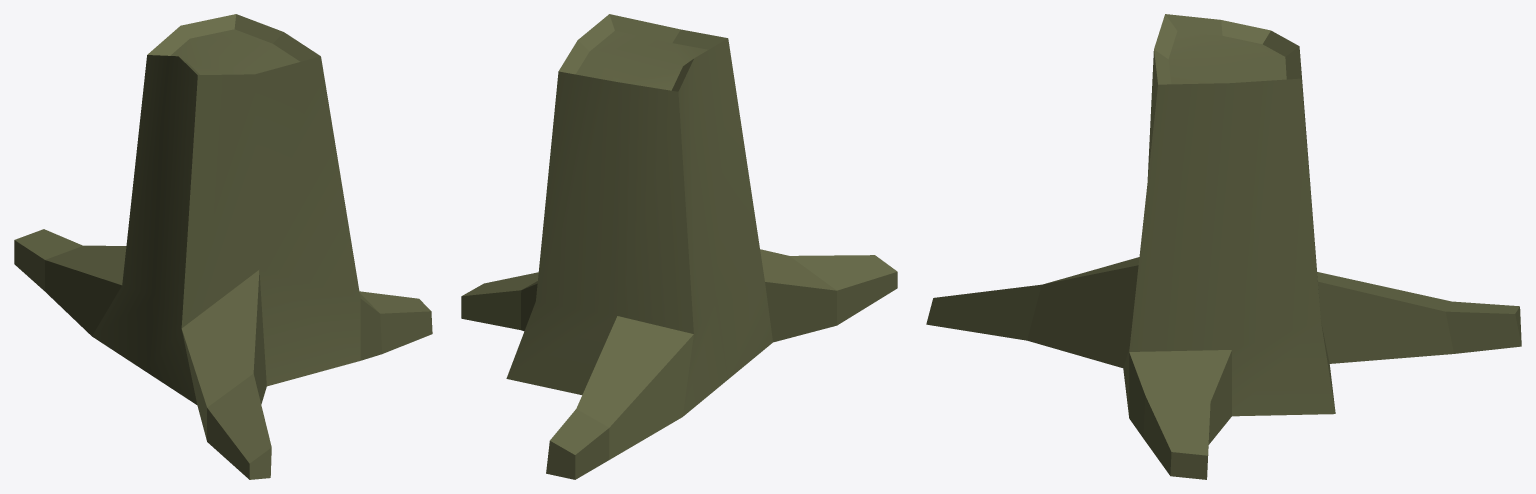
File: treestump.fbx
The picture shows the model from 3 angles, left to right: view 1: azimuth 30°, elevation 25°; view 2: azimuth 150°, elevation 25°; view 3: azimuth 270°, elevation 25°; orthographic projection. The views are drawn at different scales.
Visible parts, largest first — view 1: stump; view 2: stump; view 3: stump.
Boxes of the visible parts, box(x1,y1,x2,y2) form: stump: box(14, 14, 432, 479); stump: box(461, 14, 897, 479); stump: box(926, 14, 1521, 479).
Size of the model in its own units: 1.78 by 1.82 by 2.88.
